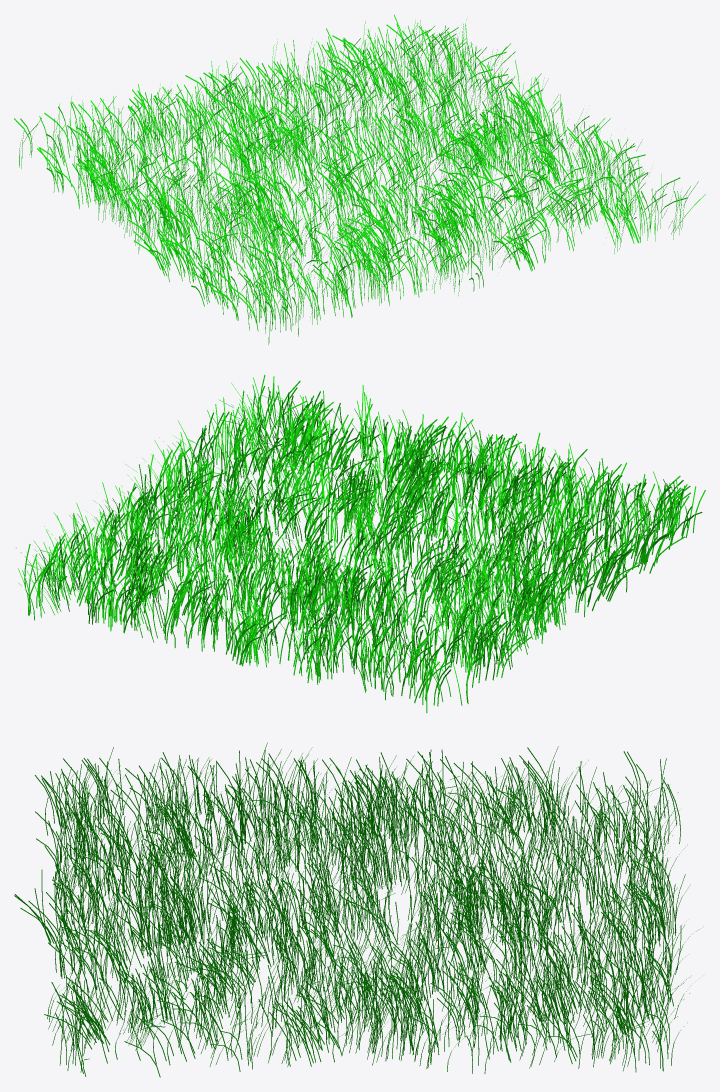
The model's file is PastoMelo.fbx.
3 renders of one model, top to bottom at view 1: azimuth 30°, elevation 25°; view 2: azimuth 150°, elevation 25°; view 3: azimuth 270°, elevation 25°, orthographic. The views are drawn at different scales.
Parts seen in each view (by area): view 1: Malla; view 2: Malla; view 3: Malla.
Boxes of the visible parts, bbox=[...] form: Malla: bbox=[14, 14, 705, 344]; Malla: bbox=[16, 374, 705, 712]; Malla: bbox=[14, 742, 703, 1077].
Size of the model in its own units: 912 by 138 by 903.
